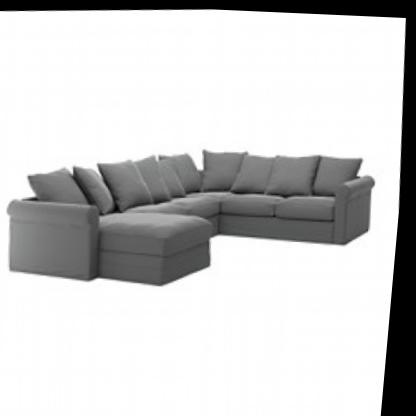Sofa: (0, 87, 390, 310)
